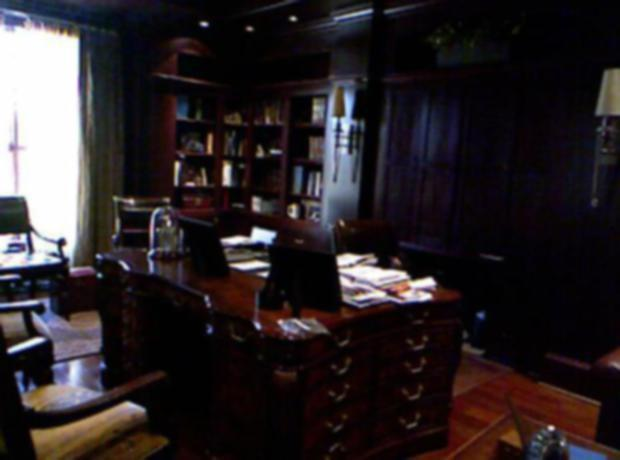Armario: (343, 72, 460, 336), (461, 72, 568, 349)
